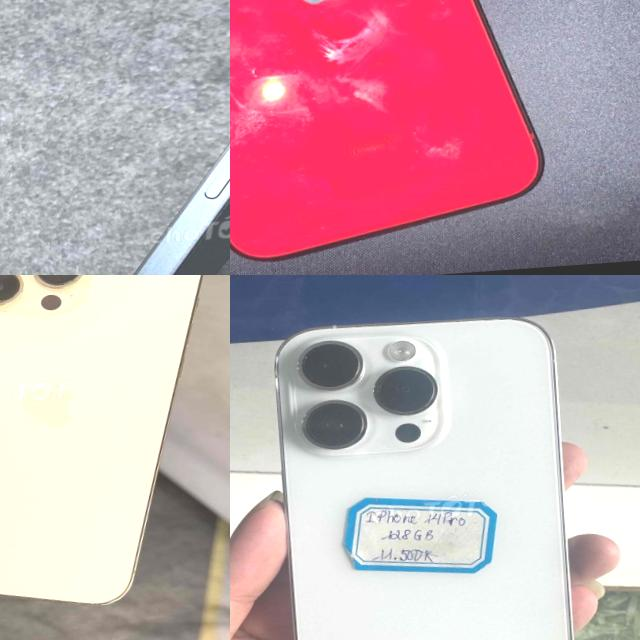scratch: (193, 241, 230, 275)
